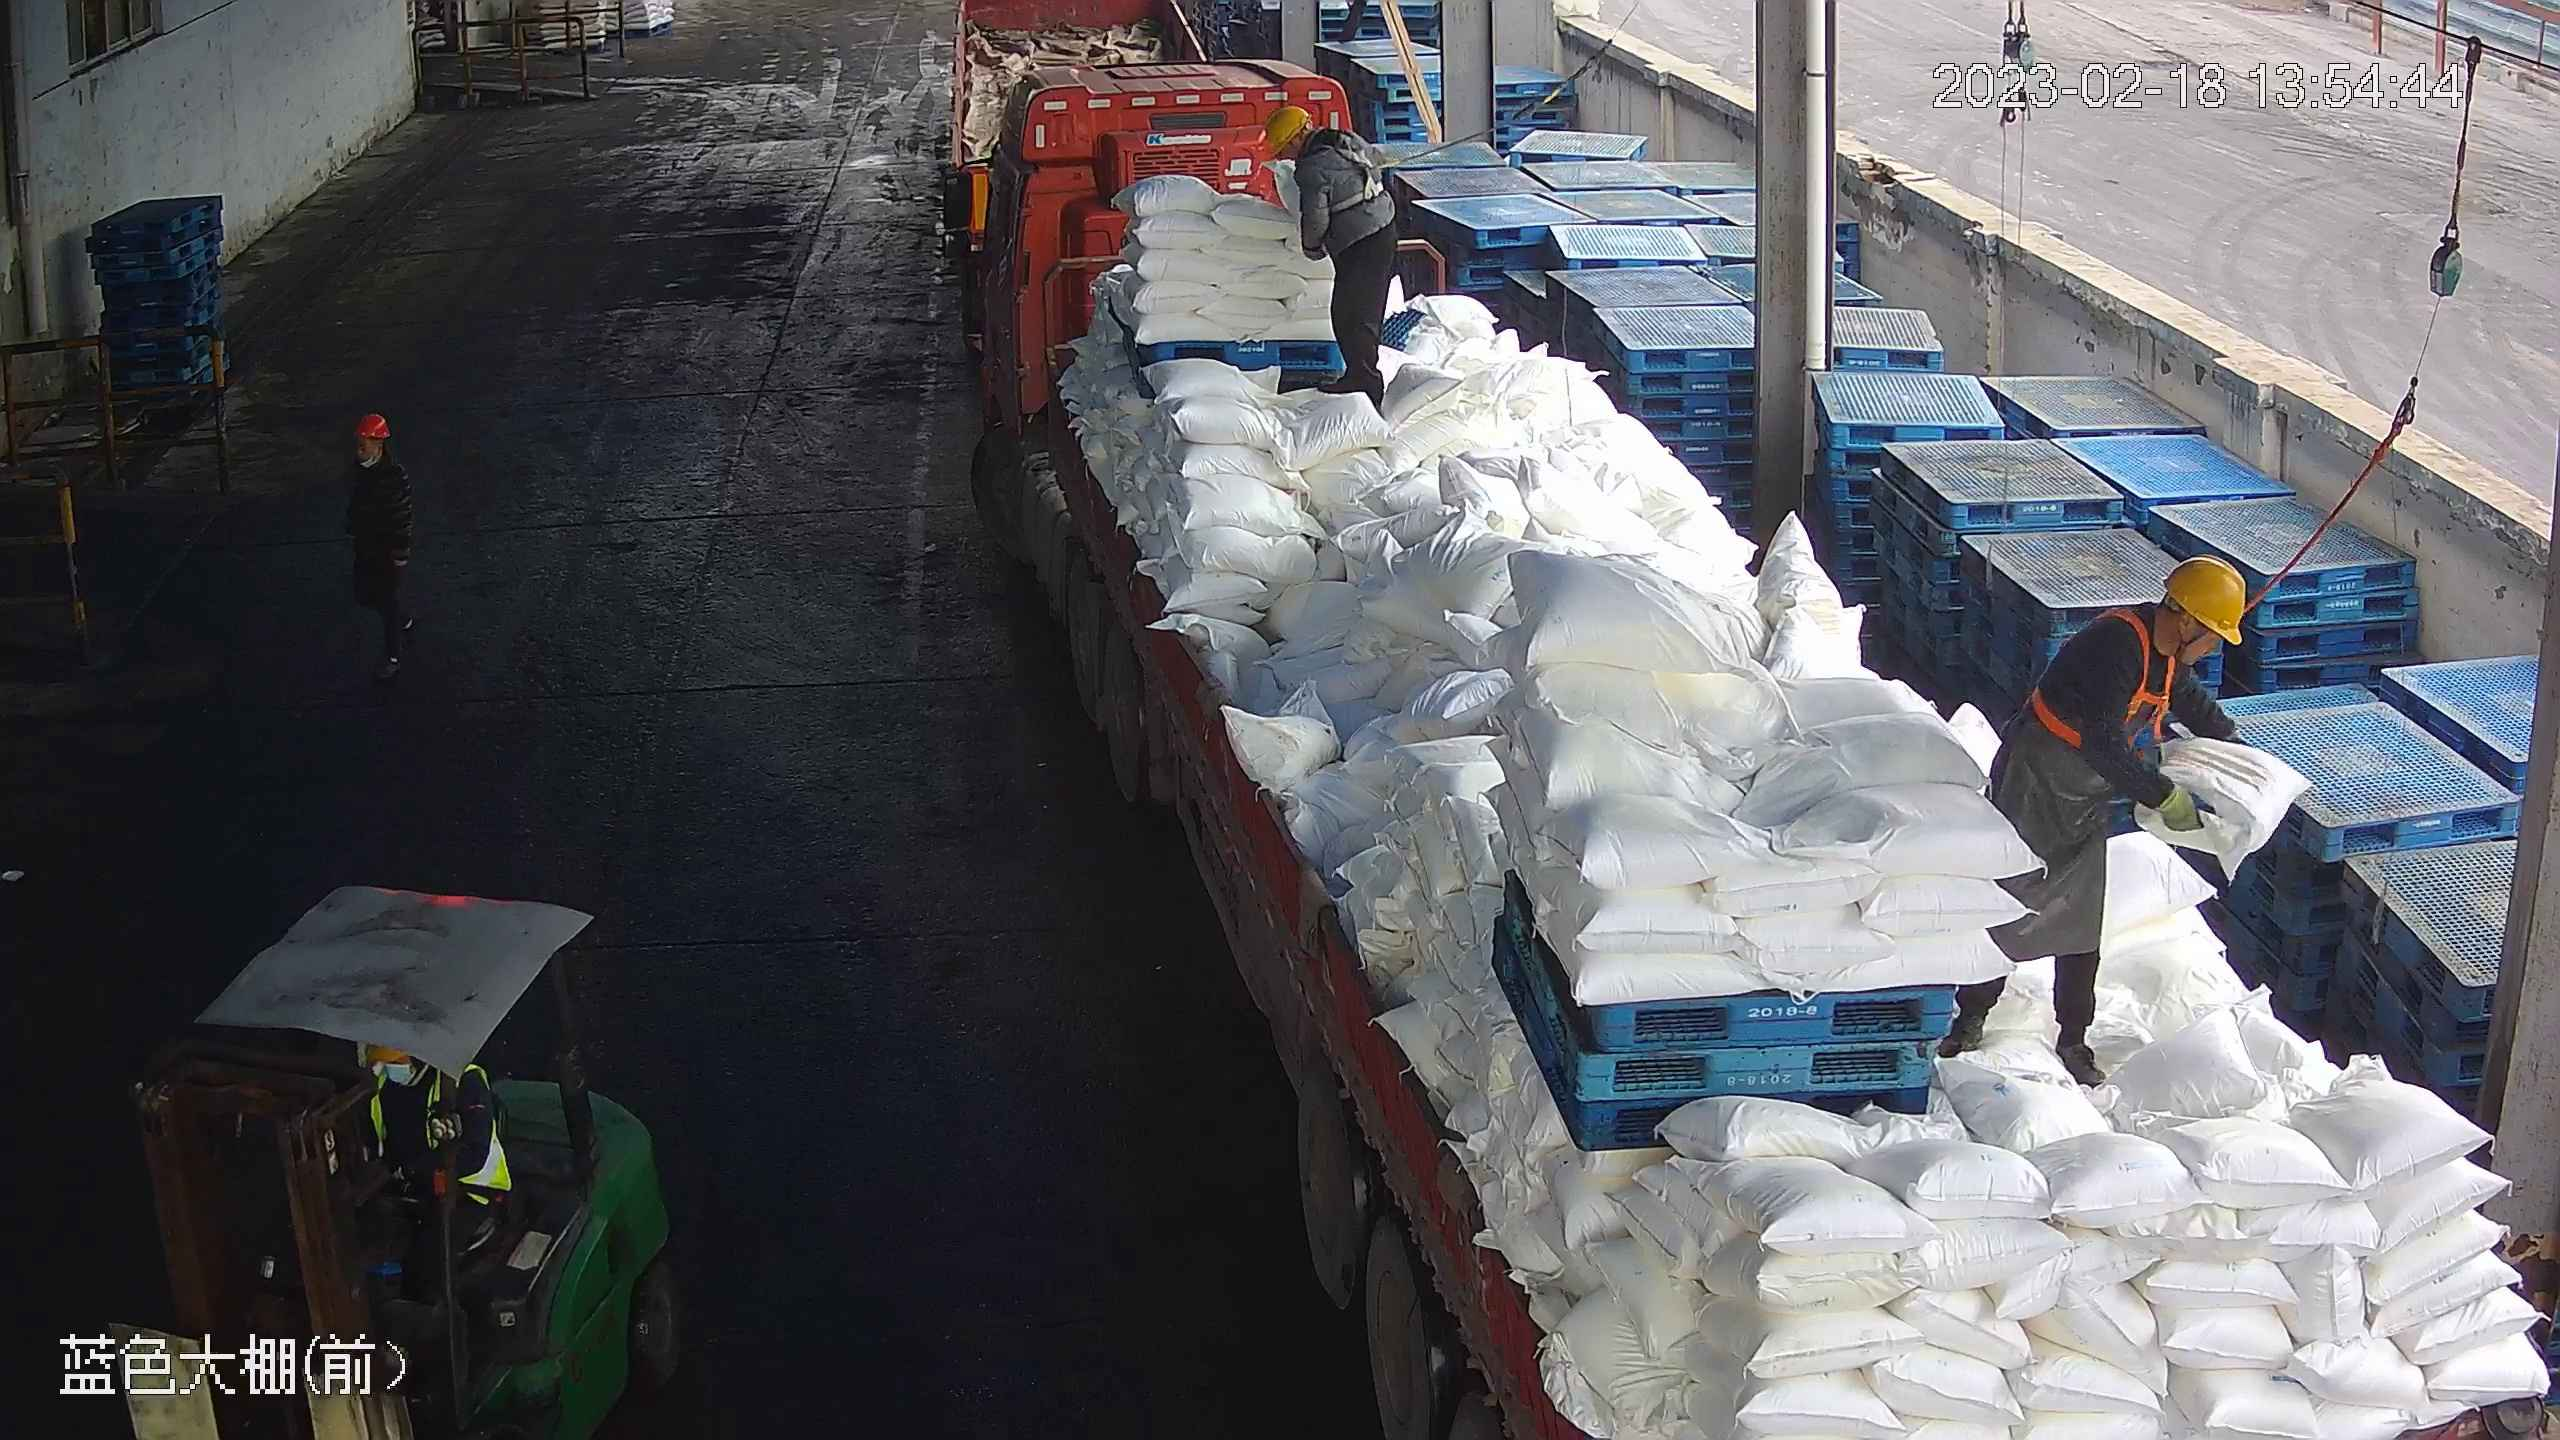belt: (2028, 607, 2195, 755), (1306, 131, 1410, 217)
head: (2062, 554, 2245, 693), (1264, 105, 1385, 182), (339, 411, 411, 495)
helmet: (2162, 553, 2246, 645), (1262, 104, 1312, 153), (352, 411, 390, 440)
people: (1940, 553, 2247, 1082), (1264, 104, 1405, 409), (338, 411, 420, 683)
truck: (951, 55, 2559, 1440)
